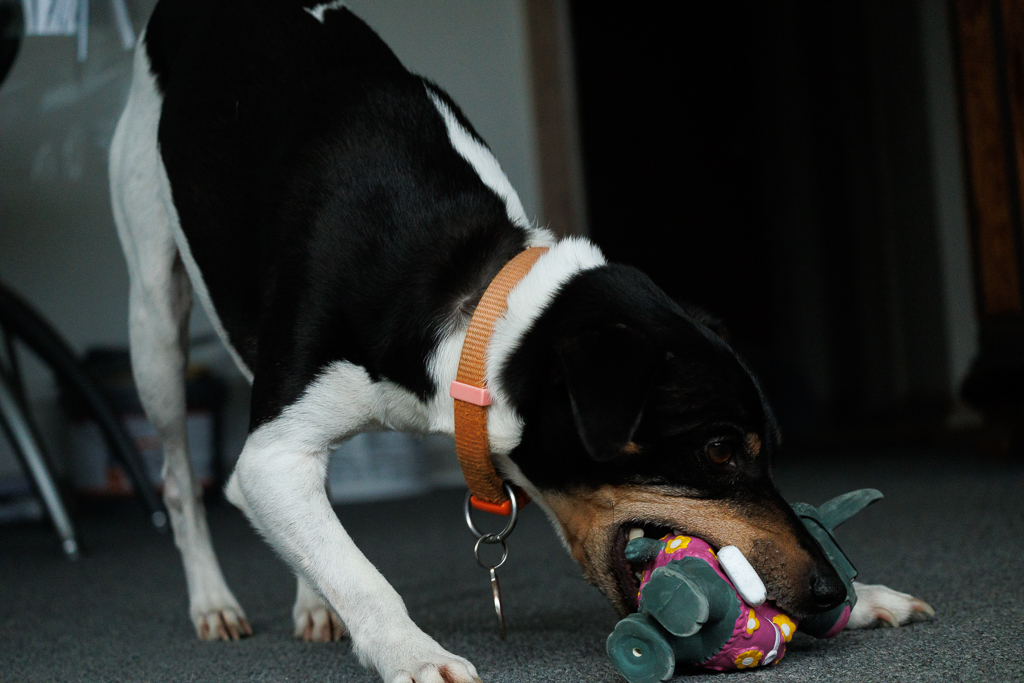Dog: (95, 0, 946, 683)
Humanoid: (594, 480, 897, 683)
